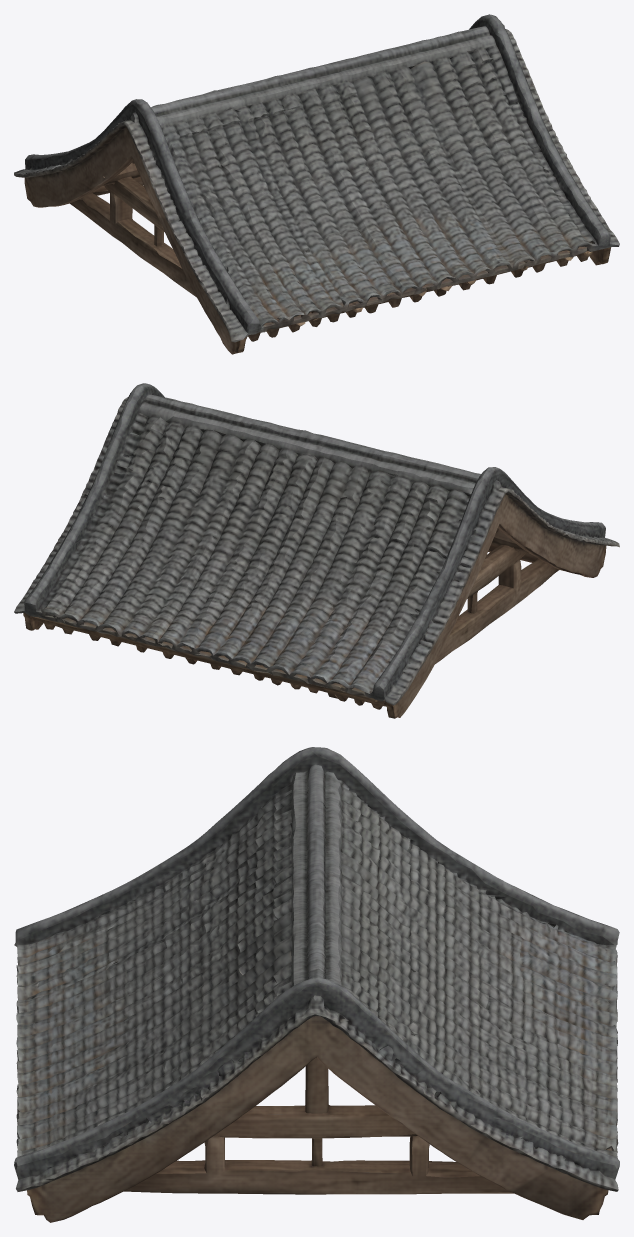
Rendered from roof_bay.glb.
3 renders of one model, top to bottom at view 1: azimuth 30°, elevation 25°; view 2: azimuth 150°, elevation 25°; view 3: azimuth 270°, elevation 25°, orthographic. The views are drawn at different scales.
Visible parts, largest first — view 1: world; view 2: world; view 3: world.
Part boxes in pixels (left/top/right/bottom): world: left=14, top=14, right=619, bottom=354; world: left=14, top=383, right=619, bottom=718; world: left=14, top=747, right=619, bottom=1222.
Size of the model in its own units: 3 by 1.32 by 3.02.
Materials: 1 (1 with a texture image).
